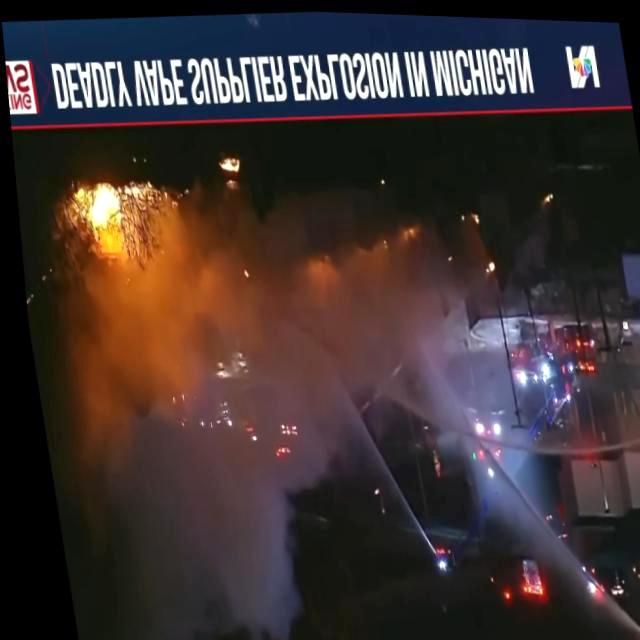fire: (53, 178, 163, 266)
